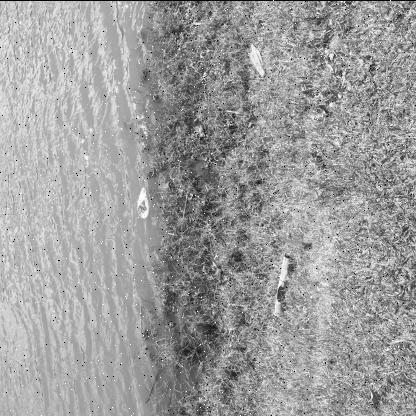other: (273, 253, 293, 317), (249, 42, 266, 76)
plastic: (137, 186, 149, 218)
